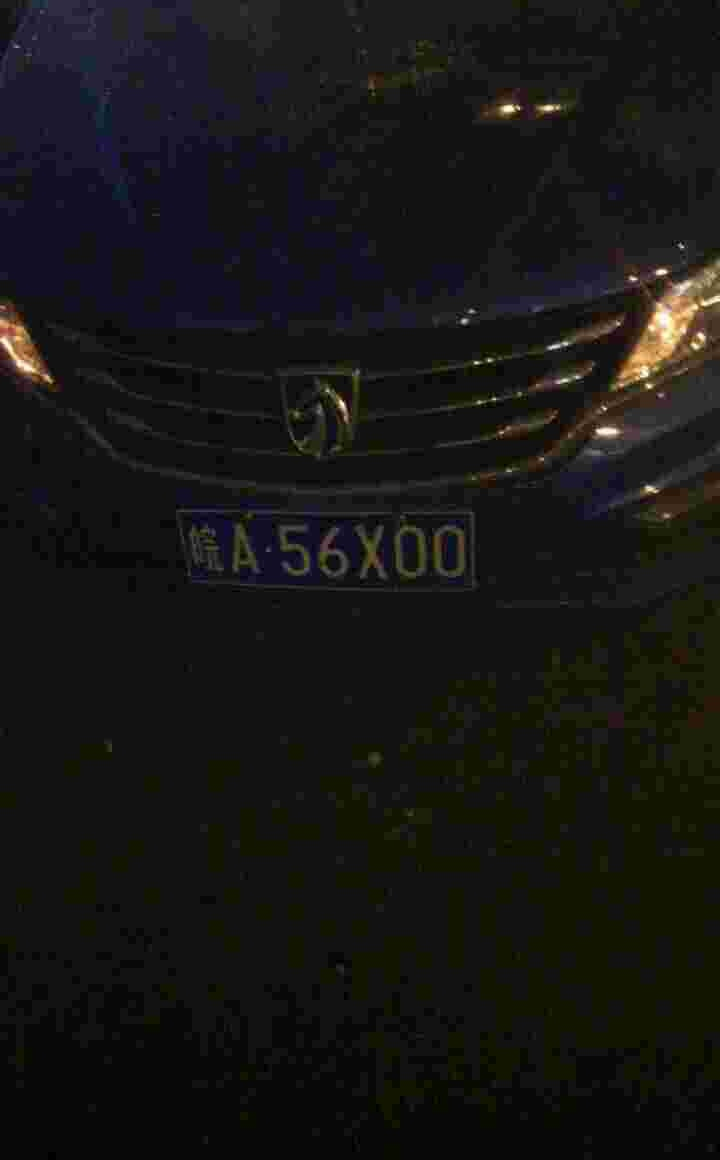license_plate: (169, 513, 485, 592)
